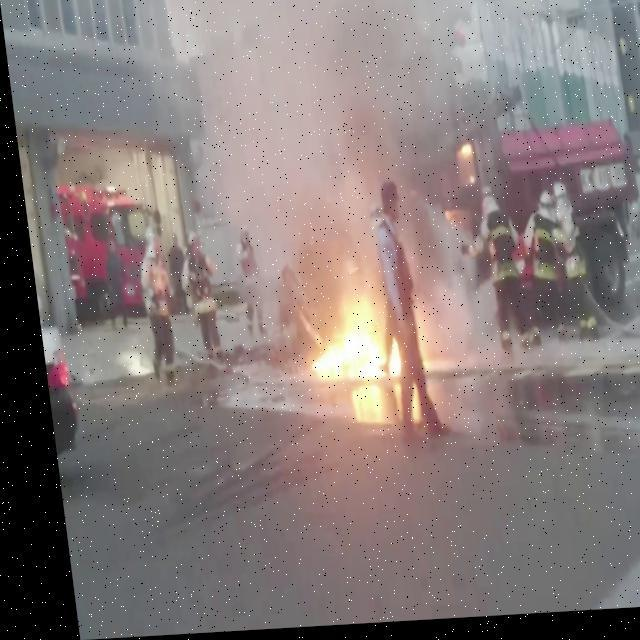Fire: (294, 293, 393, 383)
